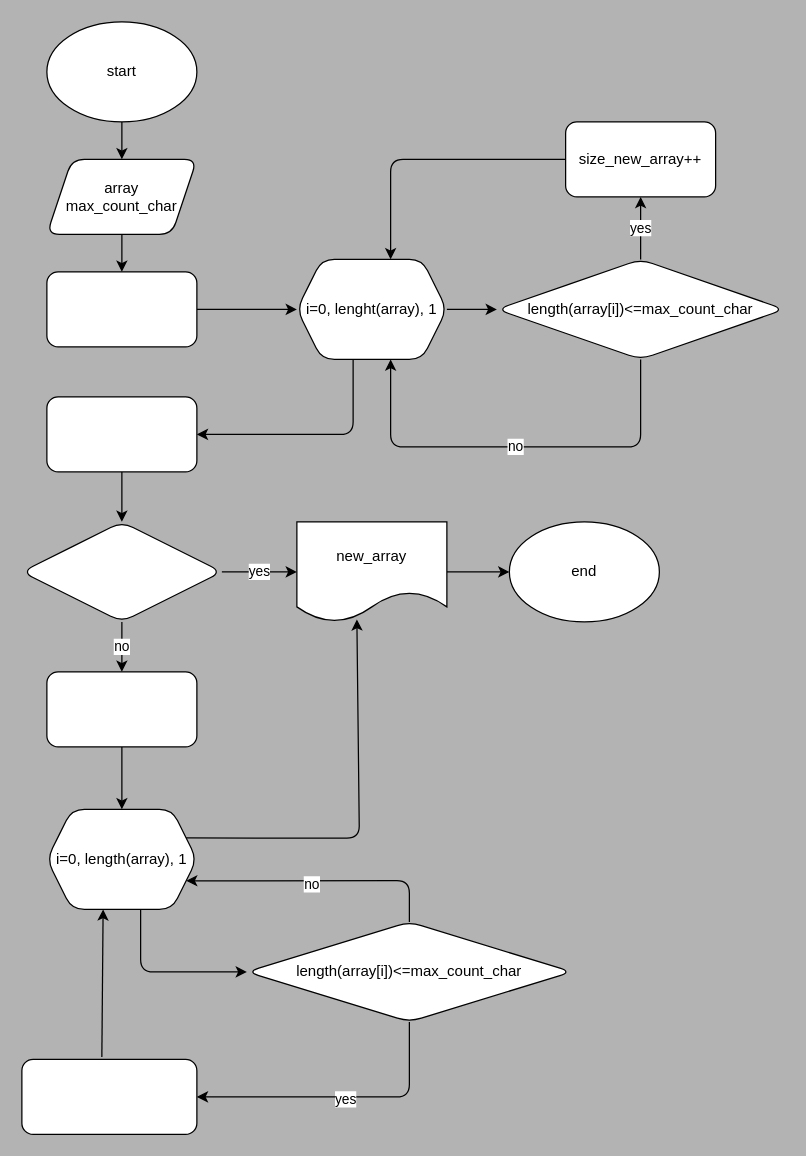
Image size: 806x1156. Some labels were removed from this diagram. The shapes that lost their labels are listed below. From the top down, each one's centre as x and y in pixels, then its label:
At point (121, 309): "size_new_array = 0".
At point (121, 434): "new_array lenght(new_array) = size_new_array".
At point (121, 571): "size_new_array == 0".
At point (121, 709): "j = 0".
At point (109, 1096): "new_array[j] = array[i] j++".
